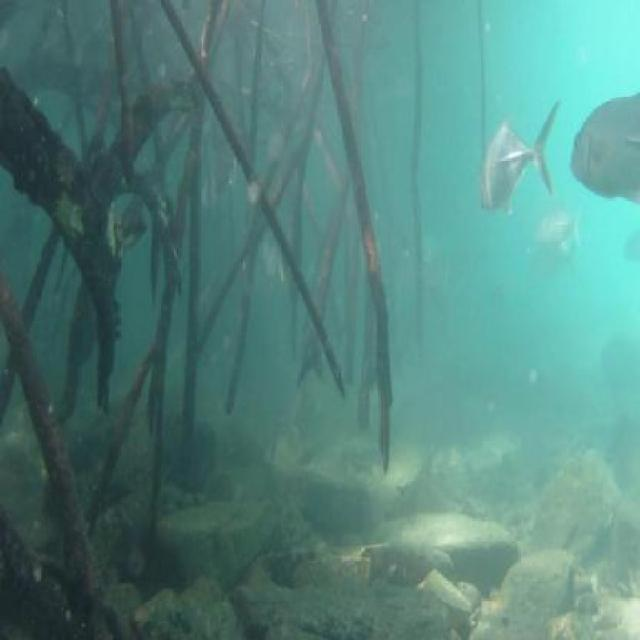Caranx_sexfasciatus_juvenile: (470, 87, 559, 227), (567, 80, 640, 209), (528, 198, 586, 256), (518, 236, 580, 276)
